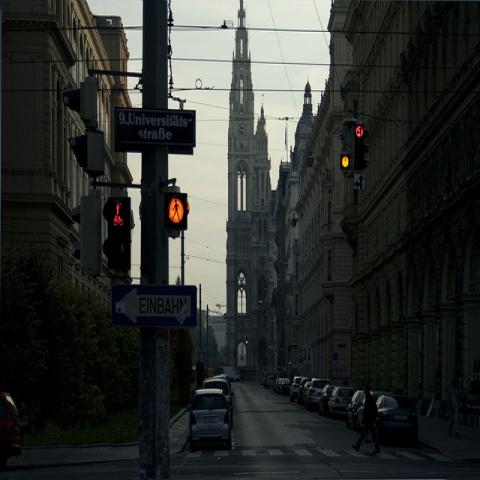car: (189, 389, 229, 454), (376, 393, 419, 445), (354, 388, 396, 432), (201, 378, 235, 426), (303, 378, 330, 412), (344, 391, 366, 429), (329, 387, 357, 415), (318, 384, 334, 416), (297, 378, 312, 407), (290, 376, 305, 402), (280, 378, 290, 396), (267, 376, 275, 388)
